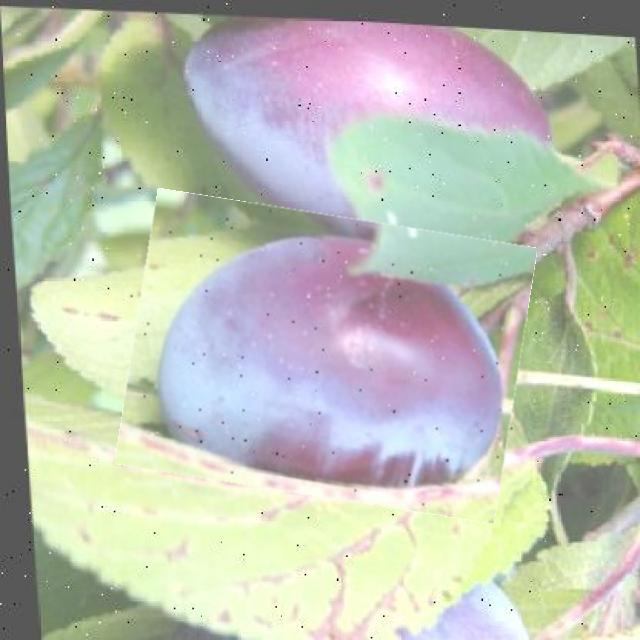plum: (124, 202, 528, 509)
